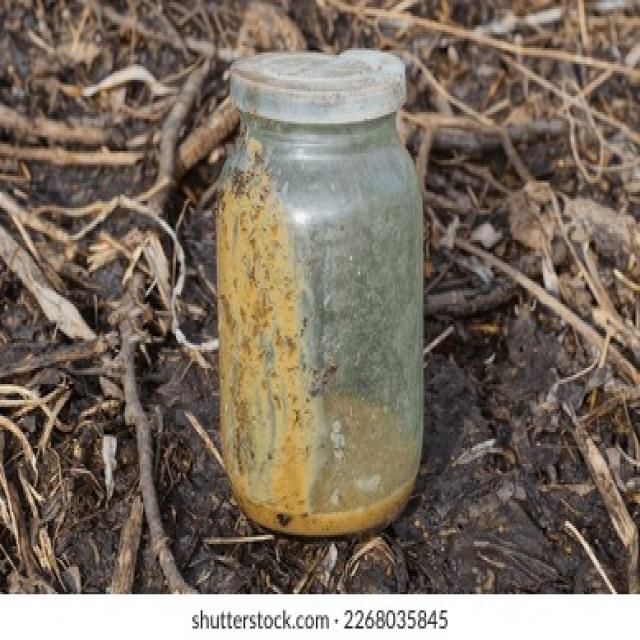glass: (229, 64, 413, 510)
